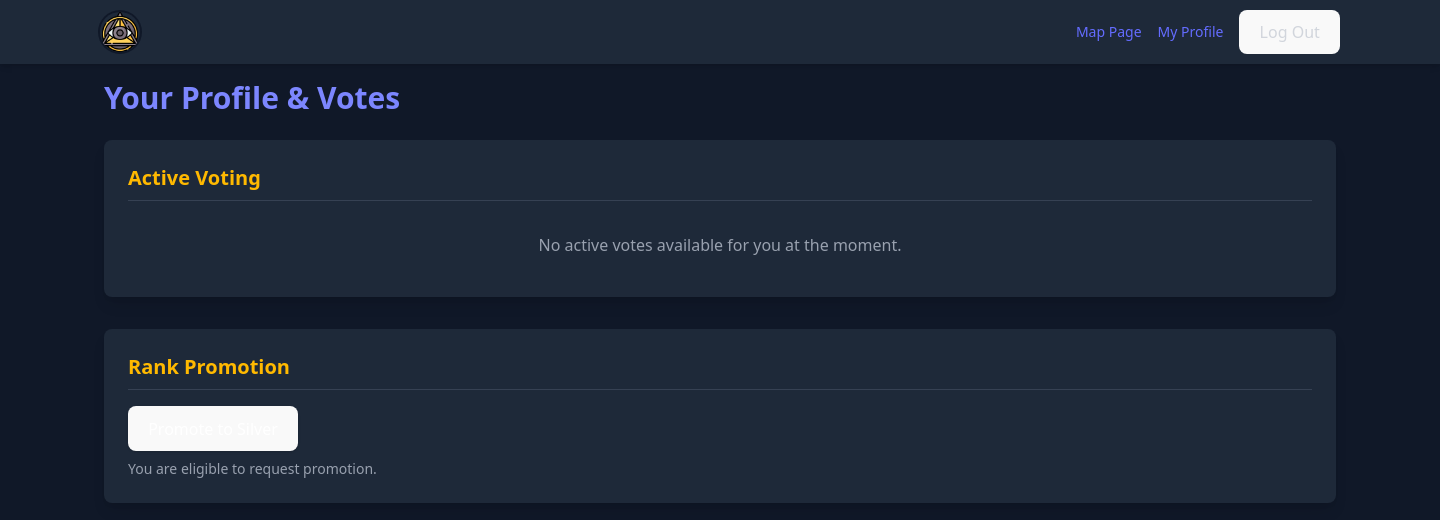
it: ProfilePage › disables promotion button during submission
Click the button "Promote to Silver". click: (213, 429)
box: x1=128 y1=406 x2=298 y2=451
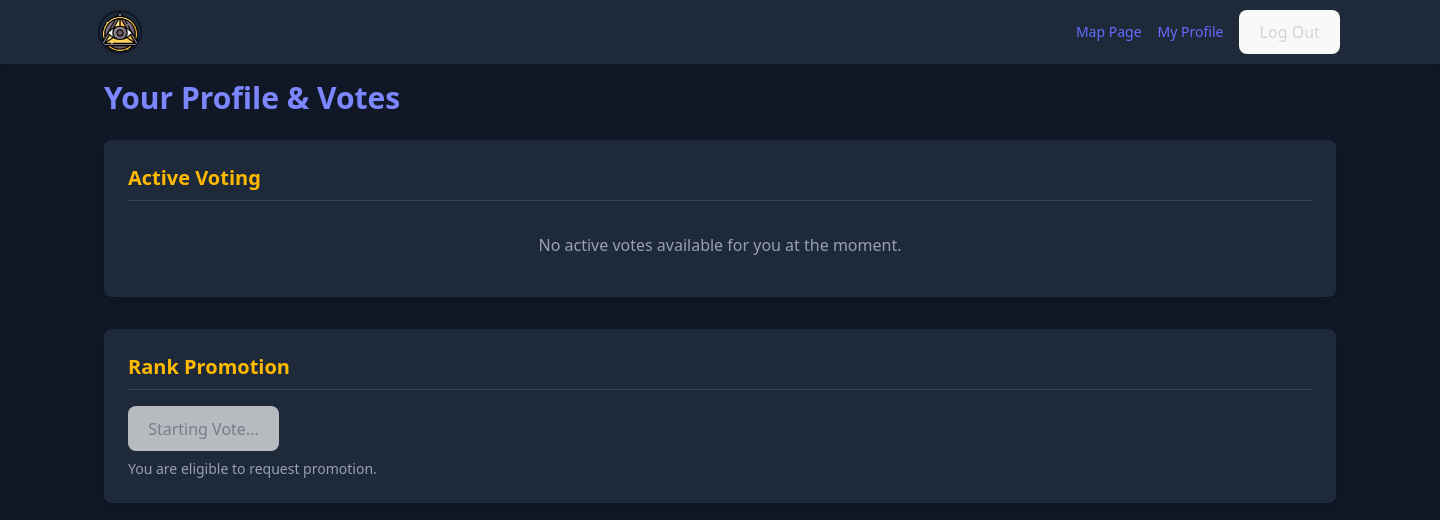
Expected: the button "Starting Vote..." is shown, x1=128 y1=406 x2=279 y2=451
